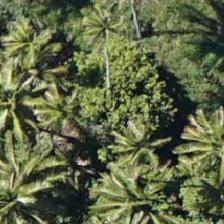coconut_tree: (98, 135, 188, 223), (0, 35, 61, 125), (167, 98, 223, 188), (0, 146, 53, 223)
